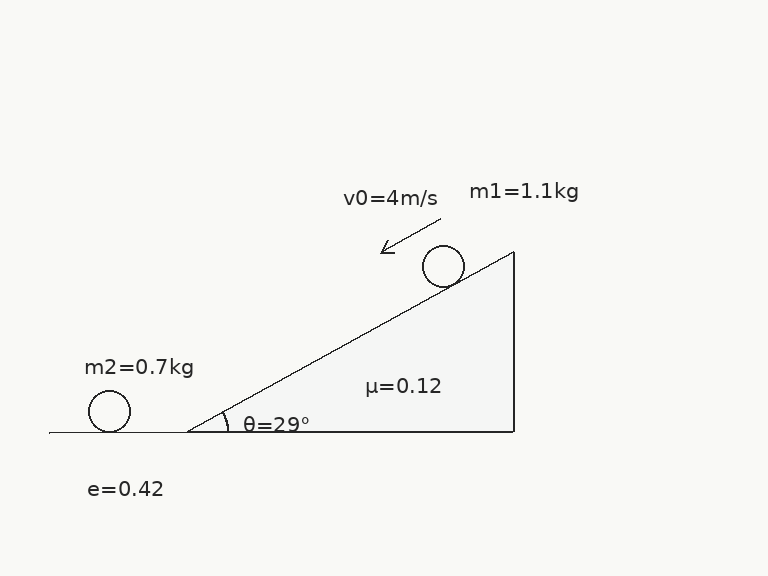ball: (420, 243, 466, 289), (86, 388, 132, 434)
ramp: (186, 250, 514, 434)
